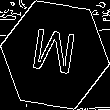M_S: (30, 26, 80, 84)
